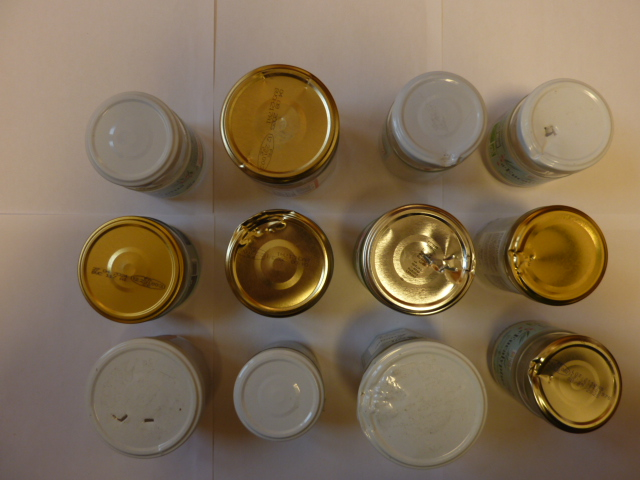damaged: (222, 208, 333, 318)
intact: (234, 348, 326, 442)
